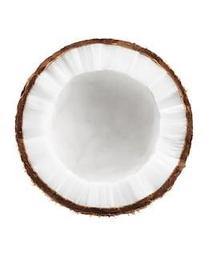coconut: (15, 38, 193, 216)
